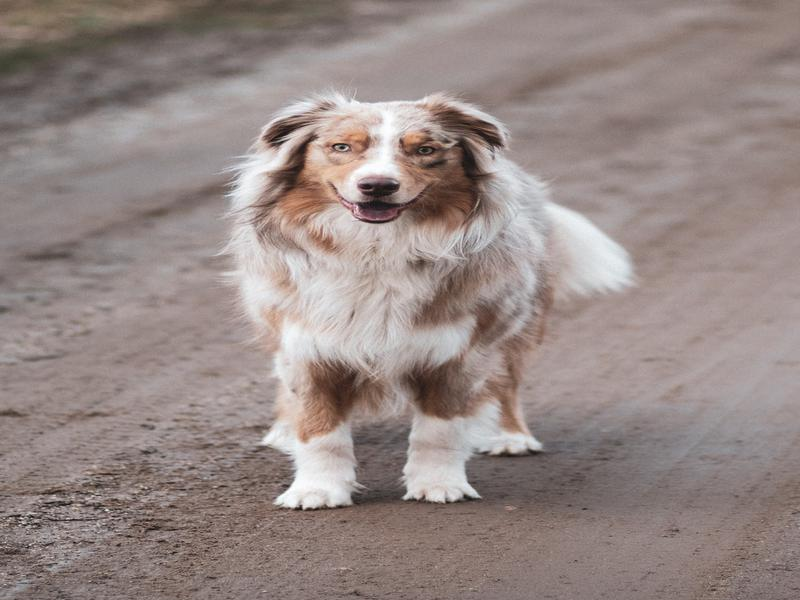dog_stand: (216, 84, 641, 511)
